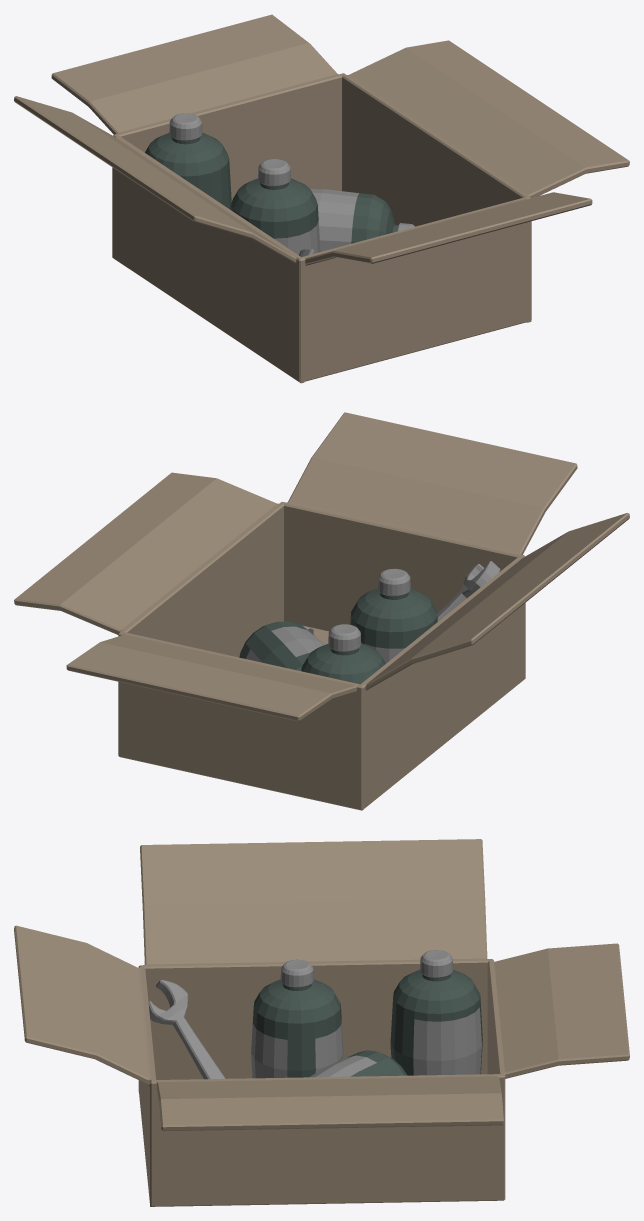
The picture shows the model from 3 angles, top to bottom: view 1: azimuth 30°, elevation 25°; view 2: azimuth 150°, elevation 25°; view 3: azimuth 270°, elevation 25°; orthographic projection.
Parts seen in each view (by area): view 1: pasted__pasted__pCylinder3; view 2: pasted__pasted__pCylinder3; view 3: pasted__pasted__pCylinder3.
Part boxes in pixels (box(x1,y1,x2,y2)): pasted__pasted__pCylinder3: box(14, 14, 629, 383); pasted__pasted__pCylinder3: box(14, 412, 629, 810); pasted__pasted__pCylinder3: box(14, 839, 629, 1206).
Bounding box in the file's own units: 1.71 × 0.6842 × 1.97.
